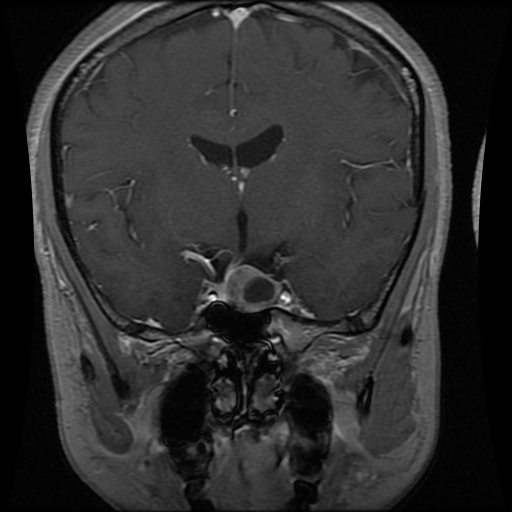pituitary: (224, 266, 280, 310)
